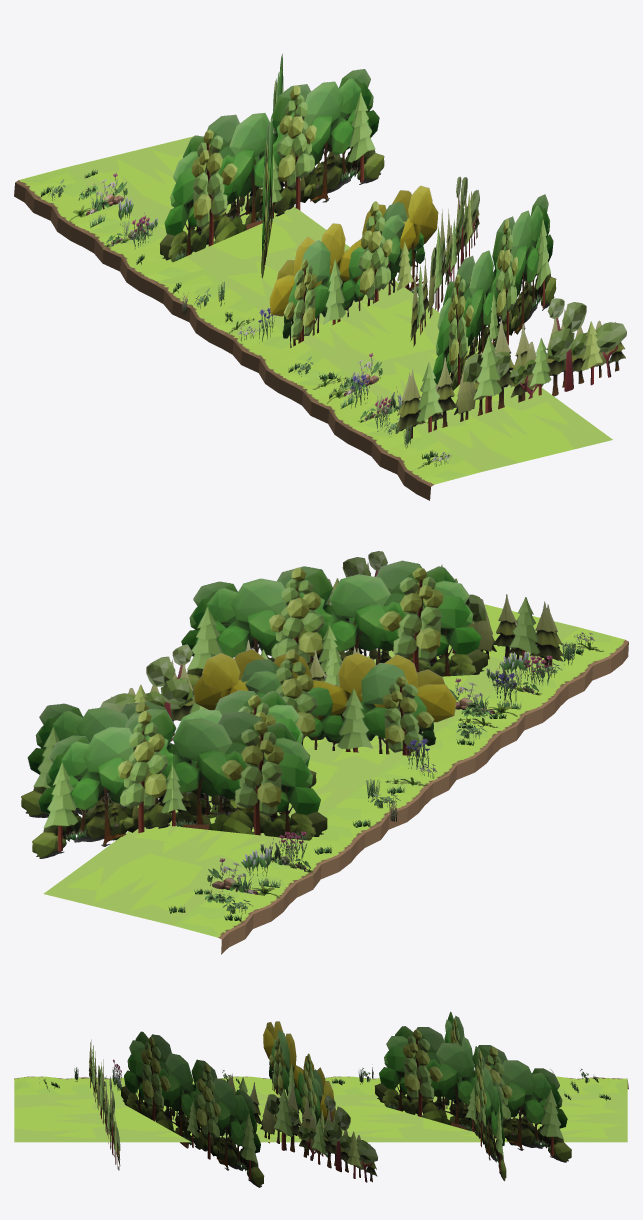
The model's file is Set_01_Right_Side_01.FBX.
The picture shows the model from 3 angles, top to bottom: view 1: azimuth 30°, elevation 25°; view 2: azimuth 150°, elevation 25°; view 3: azimuth 270°, elevation 25°; orthographic projection. The views are drawn at different scales.
Visible parts, largest first — view 1: Left_Side_Ground_01, Plants_Plane_01, Plants_Plane_113, Plants_Plane_112, Plants_Plane_173, Plants_Plane_176, Plants_Plane_177, Plants_Plane_004, Plants_Plane_154; view 2: Left_Side_Ground_01, Plants_Plane_173, Plants_Plane_01, Plants_Plane_177, Plants_Plane_113, Plants_Plane_112, Plants_Plane_176, Plants_Plane_004, Plants_Plane_154; view 3: Left_Side_Ground_01, Plants_Plane_177, Plants_Plane_173, Plants_Plane_176, Plants_Plane_113, Plants_Plane_01, Plants_Plane_112.
Part boxes in pixels (left/top/right/bottom): Left_Side_Ground_01: left=14, top=136, right=612, bottom=500; Plants_Plane_01: left=160, top=69, right=384, bottom=262; Plants_Plane_113: left=269, top=185, right=438, bottom=347; Plants_Plane_112: left=395, top=298, right=626, bottom=440; Plants_Plane_173: left=433, top=194, right=556, bottom=390; Plants_Plane_176: left=410, top=176, right=479, bottom=346; Plants_Plane_177: left=261, top=53, right=283, bottom=278; Plants_Plane_004: left=68, top=172, right=127, bottom=222; Plants_Plane_154: left=327, top=352, right=382, bottom=403; Left_Side_Ground_01: left=43, top=604, right=628, bottom=954; Plants_Plane_173: left=181, top=560, right=487, bottom=694; Plants_Plane_01: left=21, top=701, right=327, bottom=840; Plants_Plane_177: left=32, top=690, right=316, bottom=858; Plants_Plane_113: left=193, top=649, right=456, bottom=756; Plants_Plane_112: left=326, top=551, right=564, bottom=670; Plants_Plane_176: left=100, top=640, right=359, bottom=741; Plants_Plane_004: left=207, top=858, right=280, bottom=898; Plants_Plane_154: left=449, top=678, right=517, bottom=716; Left_Side_Ground_01: left=14, top=1076, right=628, bottom=1142; Plants_Plane_177: left=374, top=1026, right=571, bottom=1162; Plants_Plane_173: left=121, top=1031, right=264, bottom=1187; Plants_Plane_176: left=228, top=1073, right=377, bottom=1182; Plants_Plane_113: left=263, top=1021, right=335, bottom=1157; Plants_Plane_01: left=444, top=1011, right=506, bottom=1181; Plants_Plane_112: left=88, top=1039, right=120, bottom=1170.
Size of the model in its own units: 875 by 480 by 2044.
